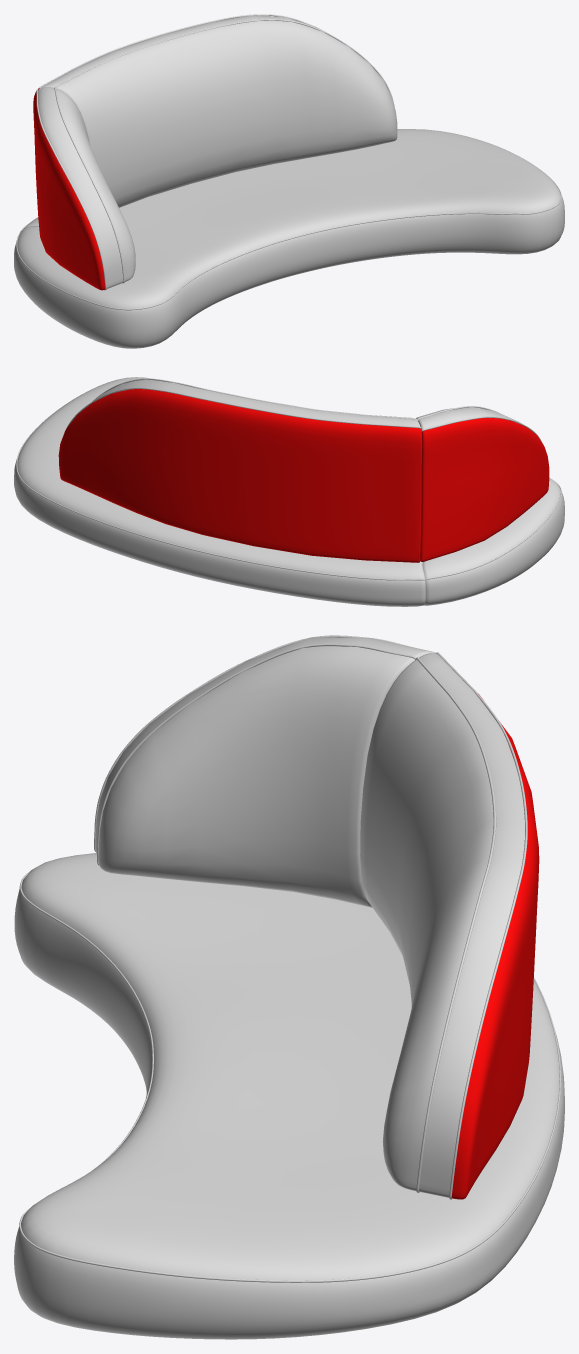
The model's file is levante_recamiere.gltf.
3 views of the same model, one above another, from view 1: azimuth 30°, elevation 25°; view 2: azimuth 150°, elevation 25°; view 3: azimuth 270°, elevation 25° (orthographic). The views are drawn at different scales.
Parts seen in each view (by area): view 1: recamiere; view 2: recamiere; view 3: recamiere.
Part boxes in pixels (x1,y1,x2,y2): recamiere: (14,14,564,348); recamiere: (14,377,564,606); recamiere: (14,635,564,1339).
Bounding box in the file's own units: 1.86 × 0.652 × 1.01.
